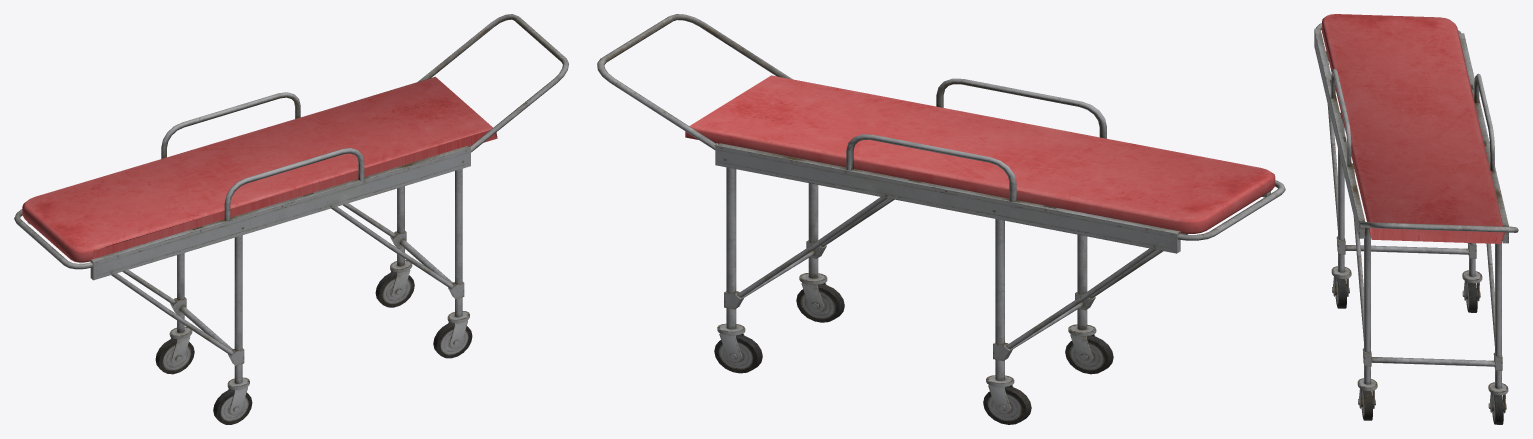
Rendered from stretcher.glb.
3 views of the same model, side by side, from view 1: azimuth 30°, elevation 25°; view 2: azimuth 150°, elevation 25°; view 3: azimuth 270°, elevation 25° (orthographic). The views are drawn at different scales.
Visible parts, largest first — view 1: Stretcher_Material #82_0; view 2: Stretcher_Material #82_0; view 3: Stretcher_Material #82_0.
Part boxes in pixels (<box>): Stretcher_Material #82_0: <box>14,14,568,424</box>; Stretcher_Material #82_0: <box>597,14,1285,424</box>; Stretcher_Material #82_0: <box>1314,14,1518,424</box>.
Size of the model in its own units: 1.88 by 0.8597 by 0.6267.
1 material, 1 textured.
